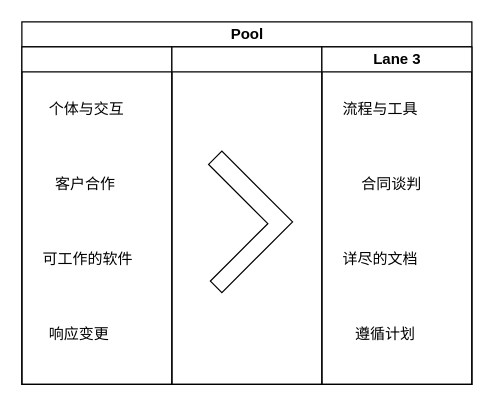
The diagram is 494 pixels wide and 406 high, and some of its shapes have lost their labels. The shapes that lost their labels are listed below. From the top down, each one's box as (x1, y1, x2, y2) in pixels, then its label:
(21, 46, 172, 384): Lane 1
(171, 46, 322, 384): Lane 2
